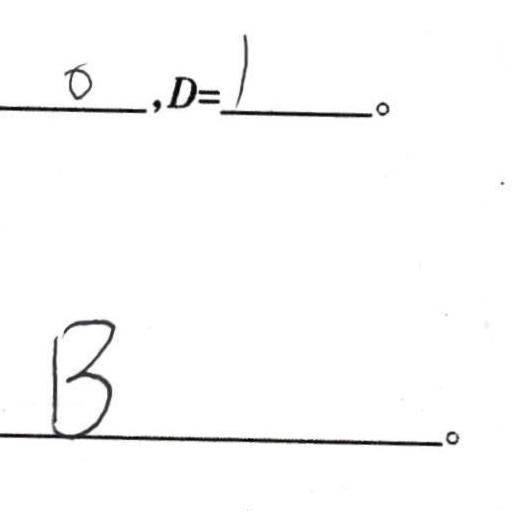ans: (40, 311, 118, 440), (229, 29, 254, 107), (62, 59, 95, 103)
